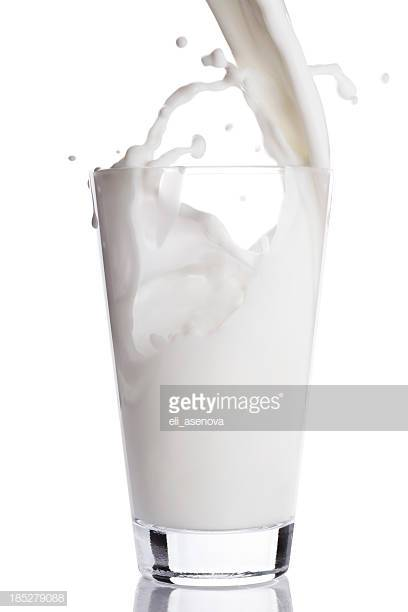glass of milk: (91, 162, 336, 375)
